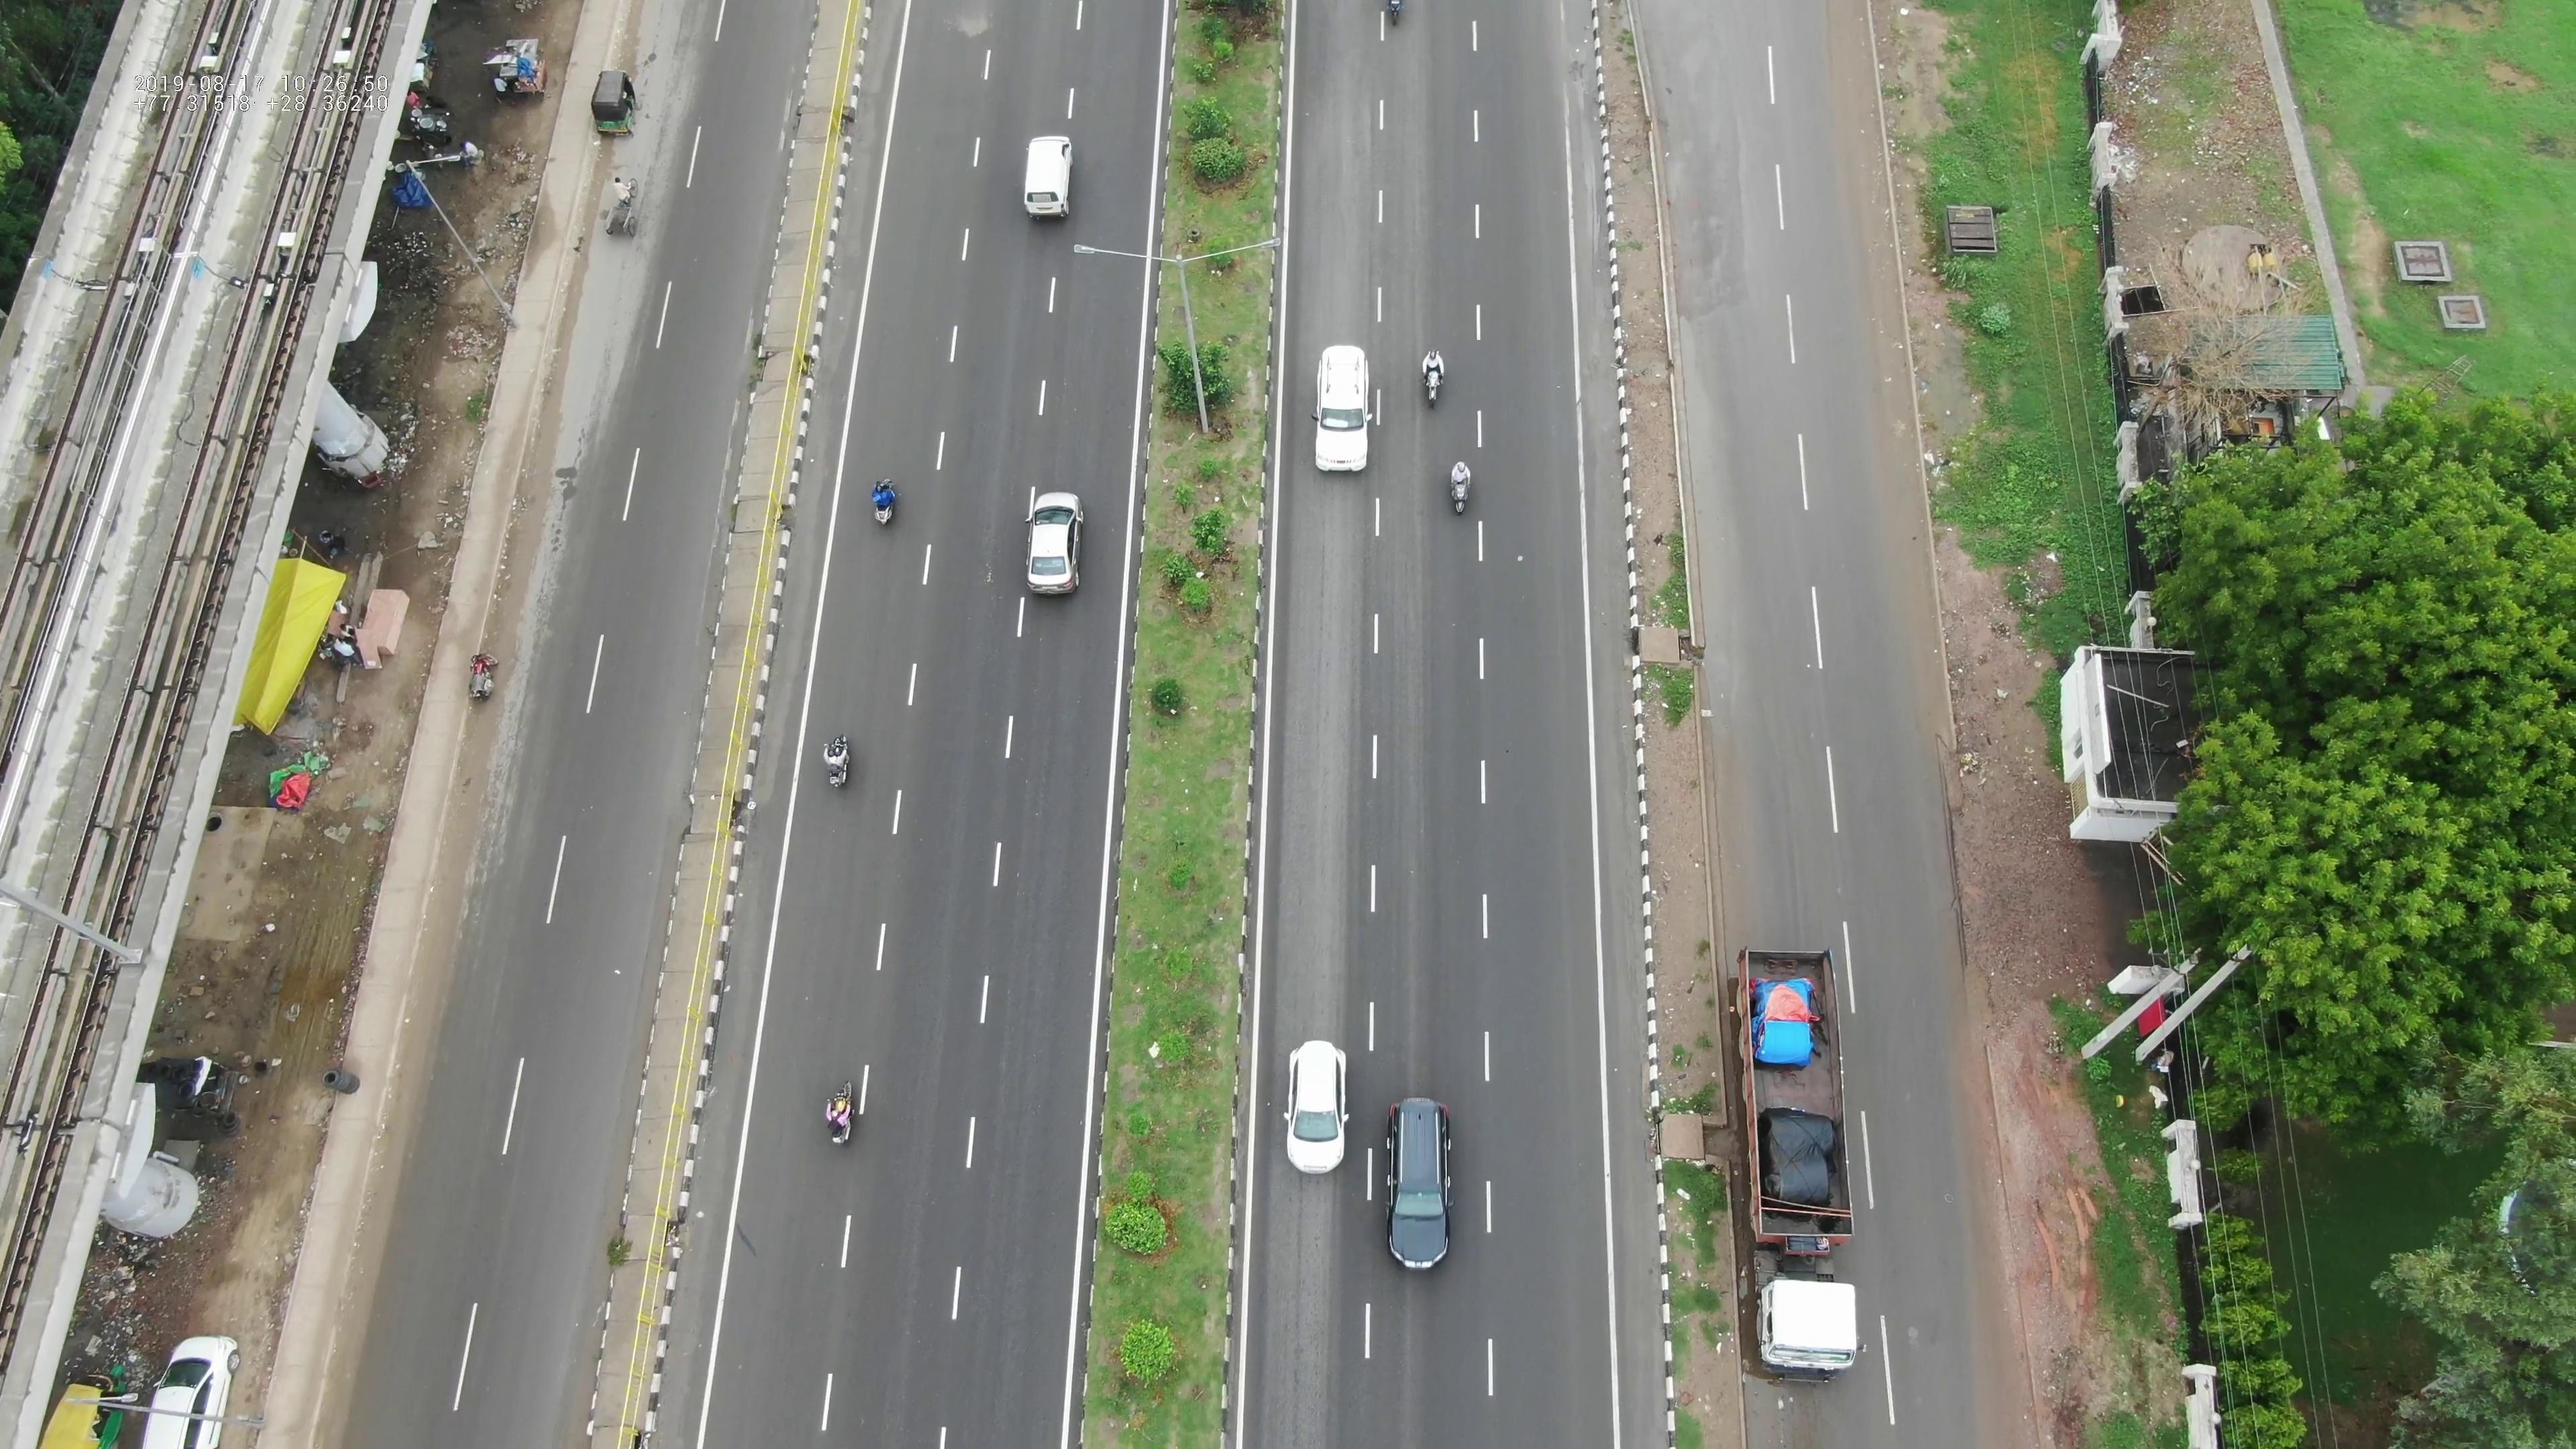Muddy_road: (407, 699, 510, 954), (490, 409, 557, 619)
